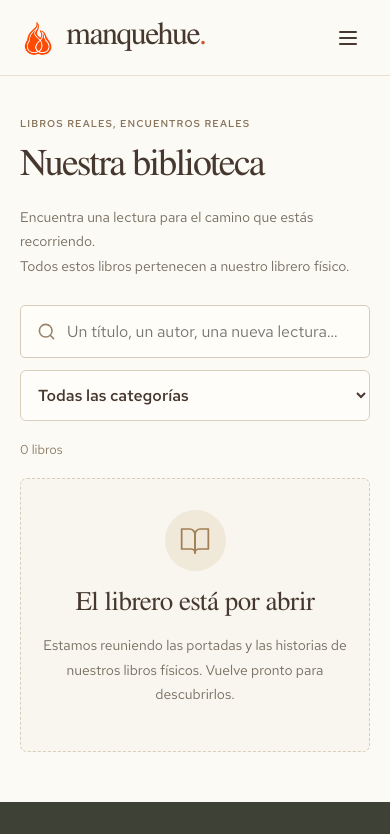
Mobile menu interactions › closes the menu when the current page is selected again
This screenshot has width=390, height=834.
Click the button named "Abrir menú" at coordinates (348, 38), box [326, 16, 370, 60]
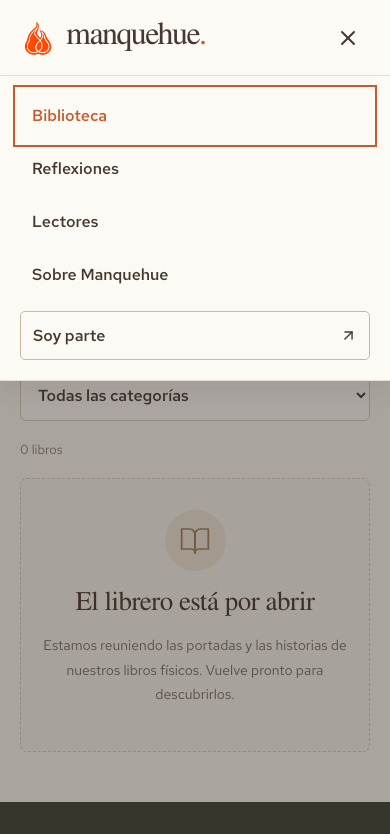
Expected: the link "Biblioteca" is shown
Click the link "Biblioteca" at coordinates (70, 116), box [32, 105, 107, 126]
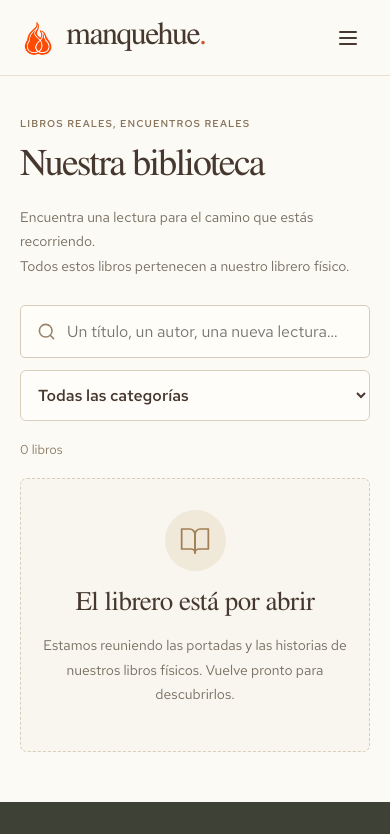
Expected: the button named "Abrir menú" is collapsed, [326, 16, 370, 60]
